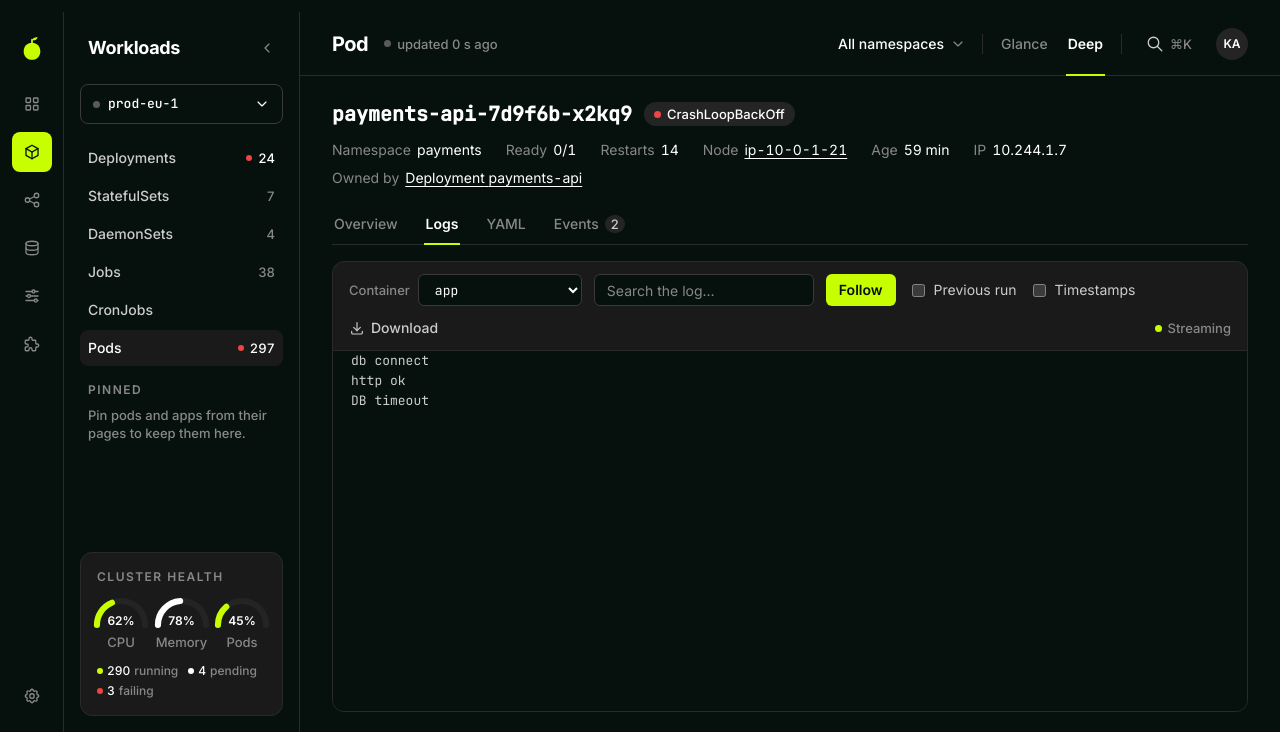
Scenario: Log viewer › searches, highlighting matches
This screenshot has width=1280, height=732.
Expected: the text "http ok" is shown, [351,372,406,389]
In the search field labelled "Search the log": (704, 290) [594,274,814,306], type "db"
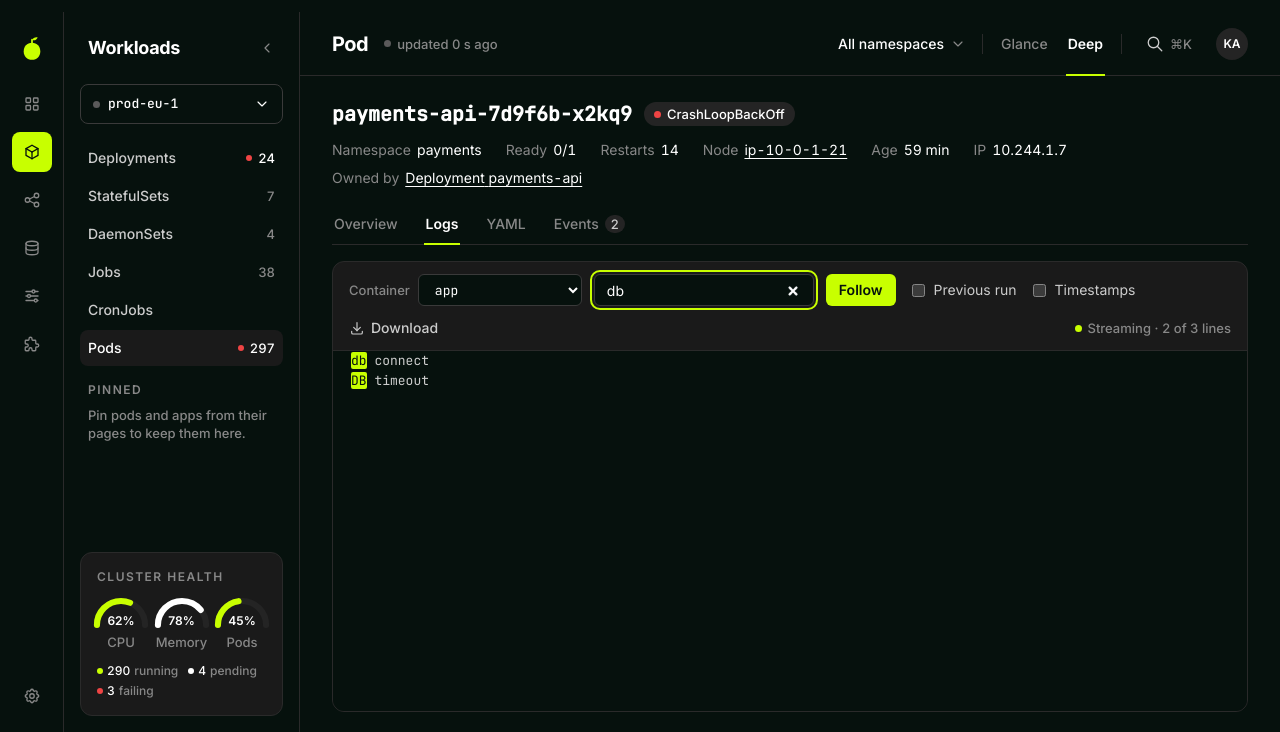
Now the text "http ok" is gone
Now the text "db" is shown 2 times, box [351,352,367,369]; [351,372,367,389]
Now the message shows "2 of 3 lines", box [1151,320,1231,336]
